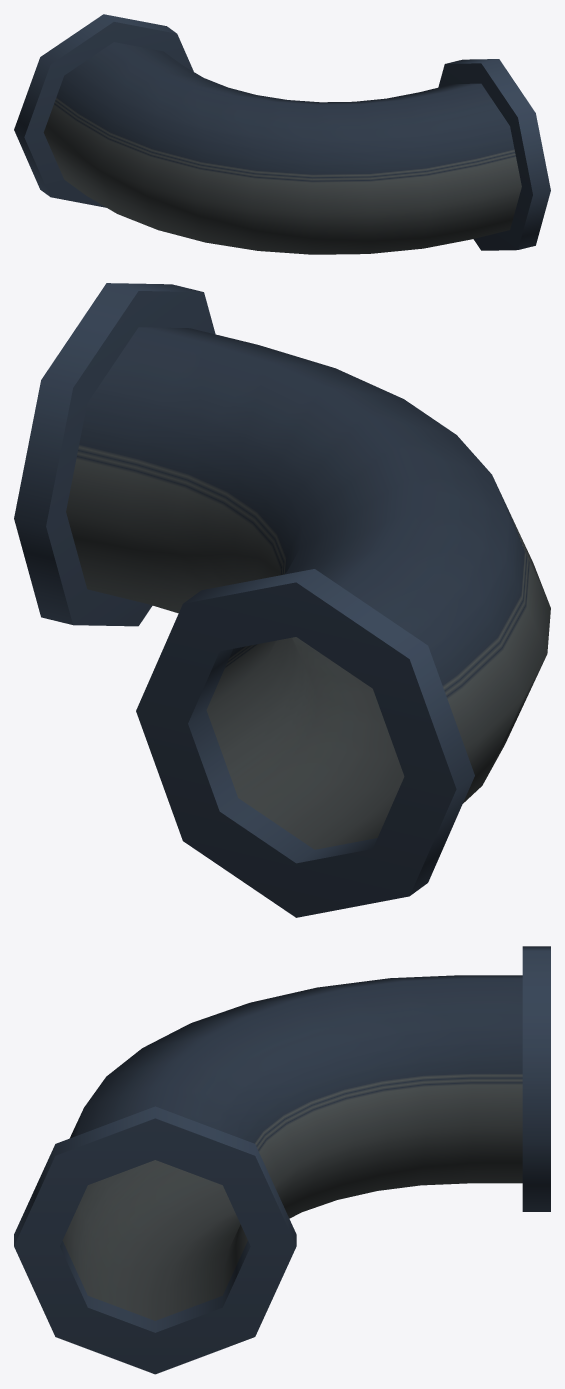
Rendered from factory-kit__pipe-large-bend.glb.
3 views of the same model, one above another, from view 1: azimuth 30°, elevation 25°; view 2: azimuth 150°, elevation 25°; view 3: azimuth 270°, elevation 25° (orthographic). The views are drawn at different scales.
Visible parts, largest first — view 1: pipe-large-bend; view 2: pipe-large-bend; view 3: pipe-large-bend.
Part boxes in pixels (box(x1,y1,x2,y2)): pipe-large-bend: box(14, 14, 550, 254); pipe-large-bend: box(14, 283, 550, 917); pipe-large-bend: box(14, 946, 550, 1374).
Size of the model in its own units: 3.42 by 1.8 by 3.42.
Materials: 1 (1 with a texture image).
